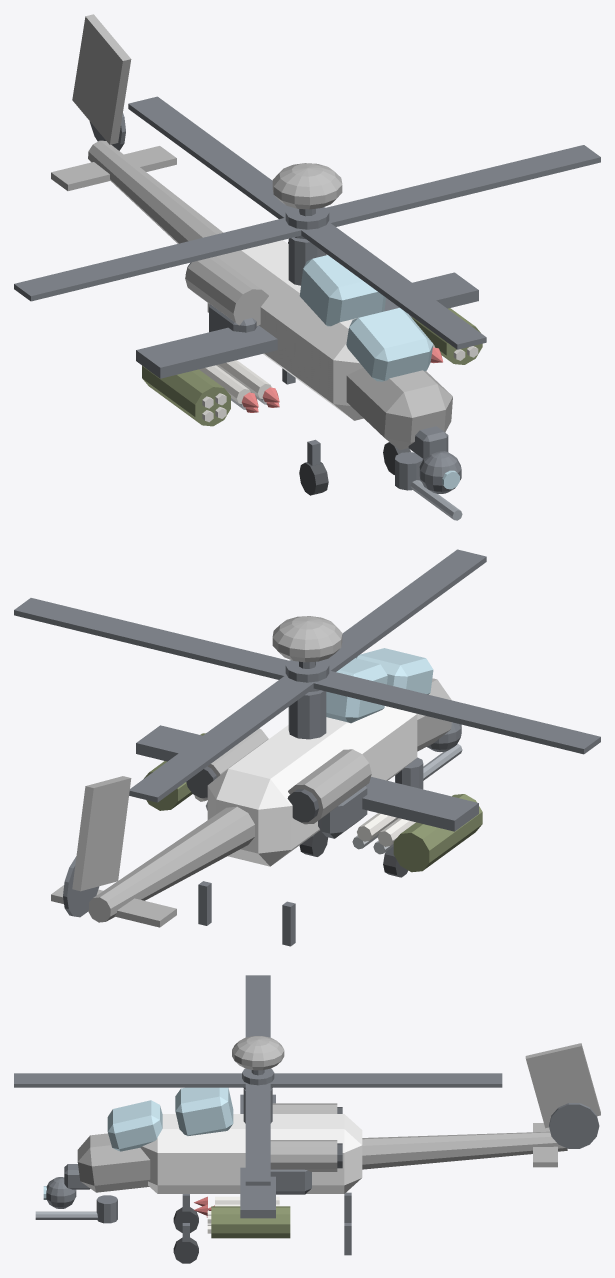
Rendered from apache.glb.
3 views of the same model, one above another, from view 1: azimuth 30°, elevation 25°; view 2: azimuth 150°, elevation 25°; view 3: azimuth 270°, elevation 25° (orthographic). The views are drawn at different scales.
Parts seen in each view (by area): view 1: main, rotor; view 2: main, rotor; view 3: main, rotor.
Part boxes in pixels (<box>): main: <box>51,14,482,520</box>; rotor: <box>14,96,600,349</box>; main: <box>51,648,482,946</box>; rotor: <box>14,549,600,802</box>; main: <box>35,1043,600,1263</box>; rotor: <box>14,975,502,1185</box>.
Size of the model in its own units: 1.36 by 0.6345 by 1.63.
